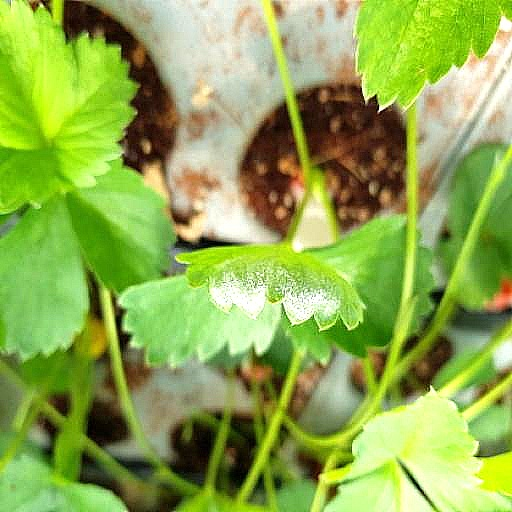Powdery Mildew Leaf: (173, 181, 367, 270)
